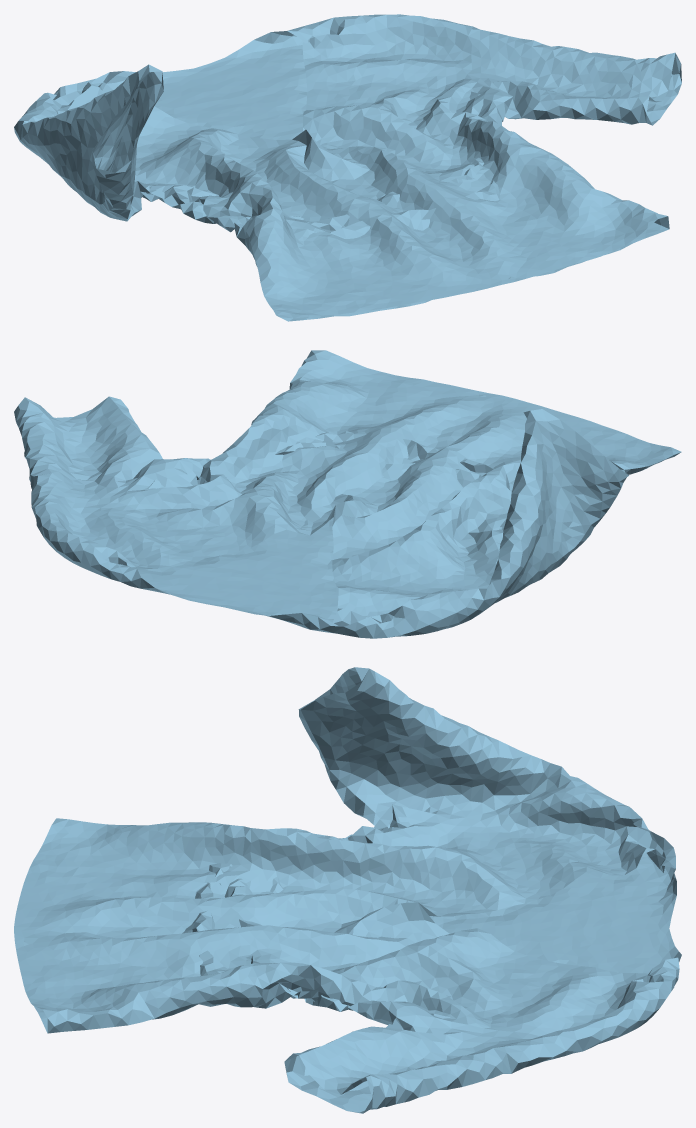
The model's file is frame_10.glb.
The picture shows the model from 3 angles, top to bottom: view 1: azimuth 30°, elevation 25°; view 2: azimuth 150°, elevation 25°; view 3: azimuth 270°, elevation 25°; orthographic projection. The views are drawn at different scales.
Visible parts, largest first — view 1: frame_10.obj; view 2: frame_10.obj; view 3: frame_10.obj.
Boxes of the visible parts, bbox=[...] form: frame_10.obj: bbox=[14, 14, 681, 321]; frame_10.obj: bbox=[14, 350, 681, 638]; frame_10.obj: bbox=[14, 667, 681, 1113].
Bounding box in the file's own units: 1.72 × 0.4149 × 1.48.
